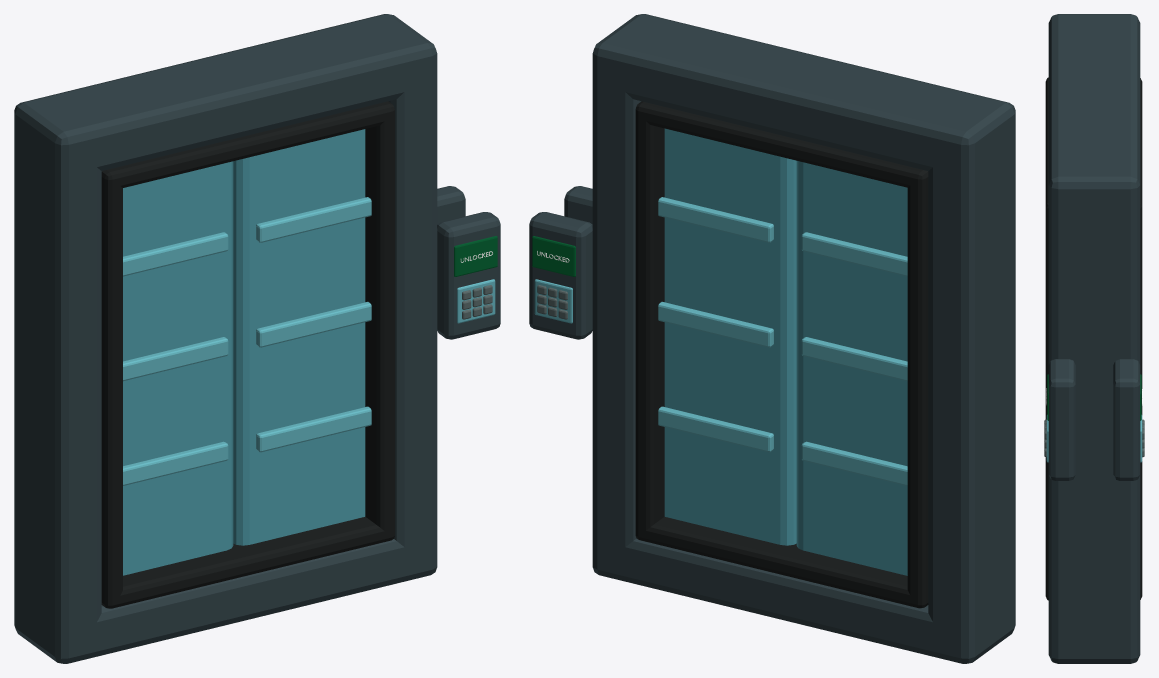
Rendered from 03_sliding_door_1p5x2m.glb.
3 views of the same model, side by side, from view 1: azimuth 30°, elevation 25°; view 2: azimuth 150°, elevation 25°; view 3: azimuth 270°, elevation 25° (orthographic). The views are drawn at different scales.
Parts seen in each view (by area): view 1: SLIDING_Frame_Left, SLIDING_Right_Panel_Body, SLIDING_Left_Panel_Body, SLIDING_Frame_Top, SLIDING_Frame_Right, SLIDING_Frame_Bottom_Threshold, SLIDING_Inner_Rubber_Seal_Right, SLIDING_Inner_Rubber_Seal_Left, SLIDING_Inner_Rubber_Seal_Bottom, SLIDING_Inner_Rubber_Seal_Top, SLIDING_Front_Electronic_Control_Block, SLIDING_Right_Front_Panel_Rib_0 (+8 smaller); view 2: SLIDING_Frame_Left, SLIDING_Right_Panel_Body, SLIDING_Left_Panel_Body, SLIDING_Frame_Top, SLIDING_Frame_Right, SLIDING_Frame_Bottom_Threshold, SLIDING_Inner_Rubber_Seal_Right, SLIDING_Inner_Rubber_Seal_Left, SLIDING_Inner_Rubber_Seal_Bottom, SLIDING_Inner_Rubber_Seal_Top, SLIDING_Back_Electronic_Control_Block, SLIDING_Right_Back_Panel_Rib_0 (+8 smaller); view 3: SLIDING_Frame_Right, SLIDING_Frame_Top, SLIDING_Back_Electronic_Control_Block, SLIDING_Front_Electronic_Control_Block, SLIDING_Frame_Bottom_Threshold, SLIDING_Inner_Rubber_Seal_Right, SLIDING_Frame_Left, SLIDING_Inner_Rubber_Seal_Top.
Boxes of the visible parts, x1,y1,x2,y2 form: SLIDING_Frame_Left: (14,96,101,663); SLIDING_Right_Panel_Body: (233,129,365,545); SLIDING_Left_Panel_Body: (123,161,233,575); SLIDING_Frame_Top: (17,14,434,173); SLIDING_Frame_Right: (358,14,437,581); SLIDING_Frame_Bottom_Threshold: (15,539,435,663); SLIDING_Inner_Rubber_Seal_Right: (365,101,394,542); SLIDING_Inner_Rubber_Seal_Left: (101,168,122,608); SLIDING_Inner_Rubber_Seal_Bottom: (101,516,394,608); SLIDING_Inner_Rubber_Seal_Top: (102,103,394,187); SLIDING_Front_Electronic_Control_Block: (437,212,500,339); SLIDING_Right_Front_Panel_Rib_0: (256,406,371,452); SLIDING_Frame_Left: (928,96,1015,663); SLIDING_Right_Panel_Body: (664,128,796,545); SLIDING_Left_Panel_Body: (796,161,907,575); SLIDING_Frame_Top: (596,14,1010,173); SLIDING_Frame_Right: (592,14,670,581); SLIDING_Frame_Bottom_Threshold: (594,538,1014,663); SLIDING_Inner_Rubber_Seal_Right: (635,101,664,538); SLIDING_Inner_Rubber_Seal_Left: (907,168,928,608); SLIDING_Inner_Rubber_Seal_Bottom: (636,516,928,607); SLIDING_Inner_Rubber_Seal_Top: (639,103,927,187); SLIDING_Back_Electronic_Control_Block: (529,212,592,339); SLIDING_Right_Back_Panel_Rib_0: (658,406,773,452); SLIDING_Frame_Right: (1048,164,1140,663); SLIDING_Frame_Top: (1048,16,1140,214); SLIDING_Back_Electronic_Control_Block: (1113,359,1140,480); SLIDING_Front_Electronic_Control_Block: (1048,359,1075,480); SLIDING_Frame_Bottom_Threshold: (1050,632,1138,662); SLIDING_Inner_Rubber_Seal_Right: (1045,199,1142,596); SLIDING_Frame_Left: (1048,14,1140,34); SLIDING_Inner_Rubber_Seal_Top: (1045,81,1142,215).
Size of the model in its own units: 1.75 by 2 by 0.374.
